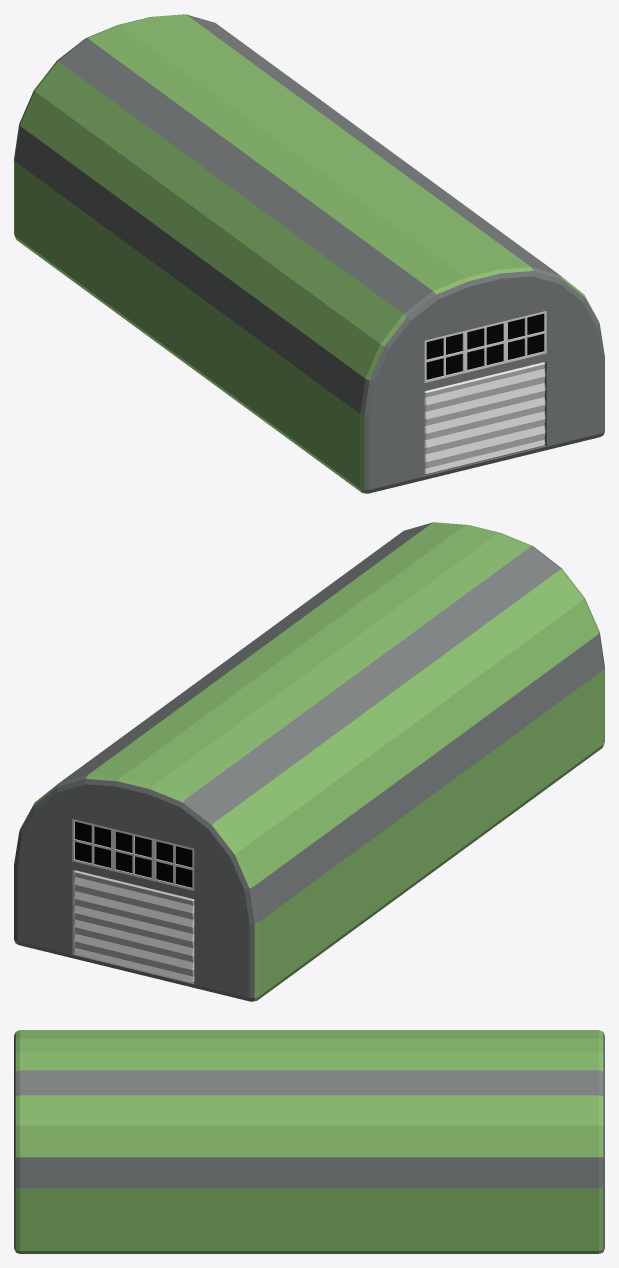
The model's file is greenhouse.fbx.
3 renders of one model, top to bottom at view 1: azimuth 30°, elevation 25°; view 2: azimuth 150°, elevation 25°; view 3: azimuth 270°, elevation 25°, orthographic. The views are drawn at different scales.
Visible parts, largest first — view 1: Cube, Cube.002, Cube.004; view 2: Cube, Cube.001, Cube.003; view 3: Cube.
Part boxes in pixels (box(x1,y1,x2,y2)): Cube: box(14, 14, 604, 493); Cube.002: box(424, 362, 545, 475); Cube.004: box(424, 311, 546, 382); Cube: box(14, 522, 604, 1001); Cube.001: box(73, 870, 194, 983); Cube.003: box(72, 819, 194, 890); Cube: box(14, 1030, 604, 1253).
Size of the model in its own units: 1200 by 900 by 3000.
